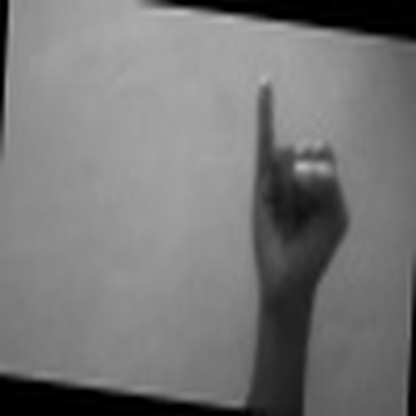i: (238, 70, 358, 325)
